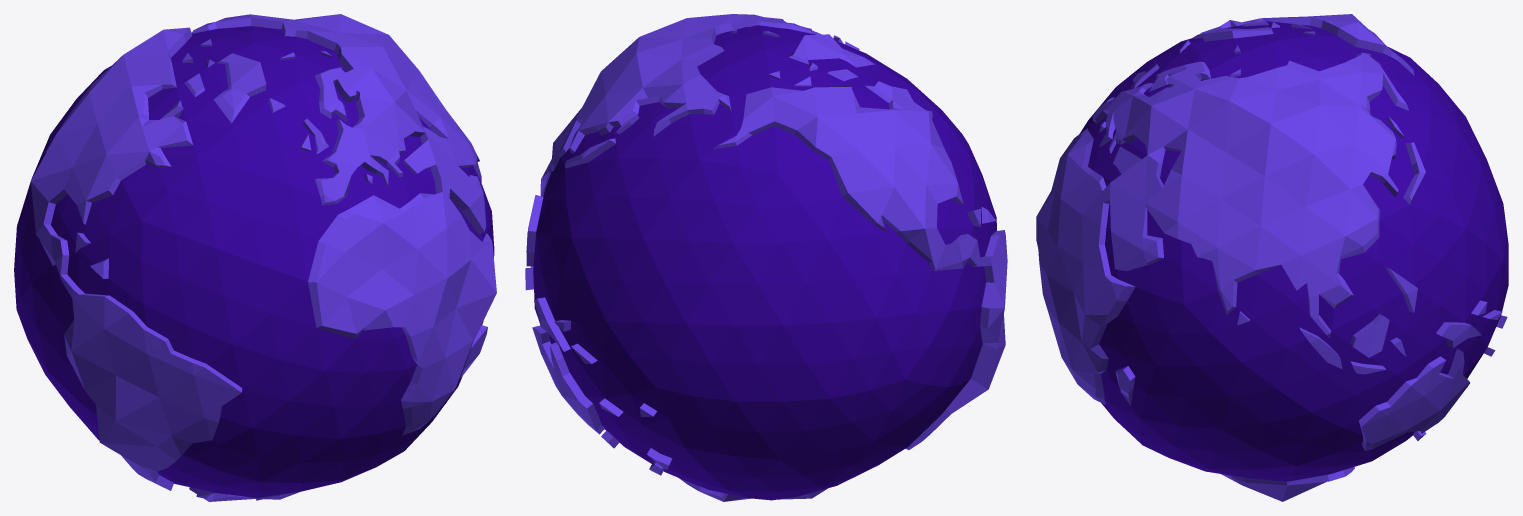
The model's file is earthflat.gltf.
3 renders of one model, left to right at view 1: azimuth 30°, elevation 25°; view 2: azimuth 150°, elevation 25°; view 3: azimuth 270°, elevation 25°, orthographic. The views are drawn at different scales.
Visible parts, largest first — view 1: earth4; view 2: earth4; view 3: earth4.
Part boxes in pixels (<box>): earth4: <box>14,14,496,501</box>; earth4: <box>525,14,1007,501</box>; earth4: <box>1036,14,1508,501</box>.
Size of the model in its own units: 17.33 by 17.94 by 17.29.
